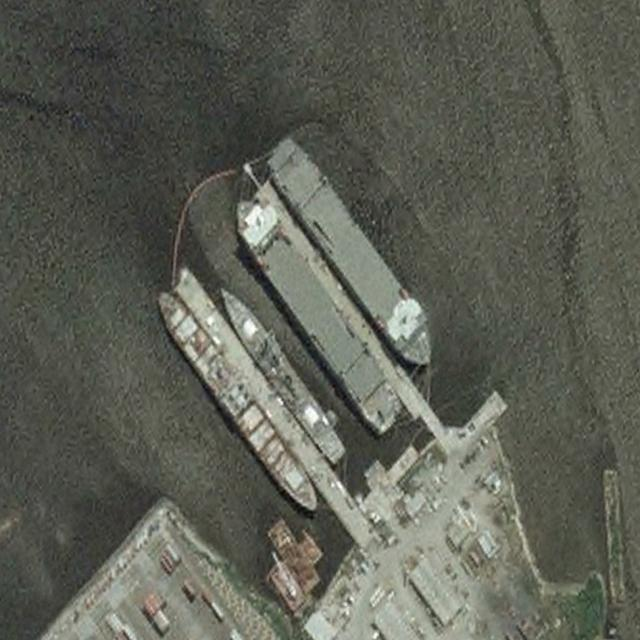Cargo: (224, 183, 408, 441), (260, 128, 447, 380)
Container Ship: (149, 282, 325, 523)
Other Ship: (212, 276, 350, 468)
